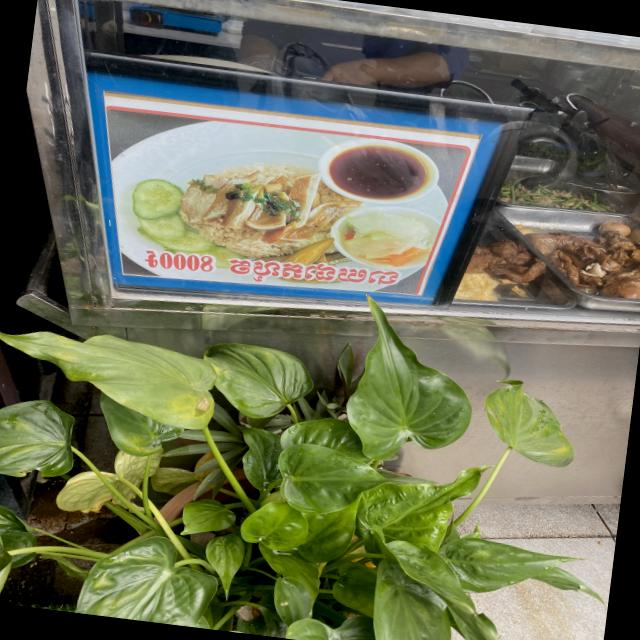Yolov11kh: (220, 251, 405, 290)
